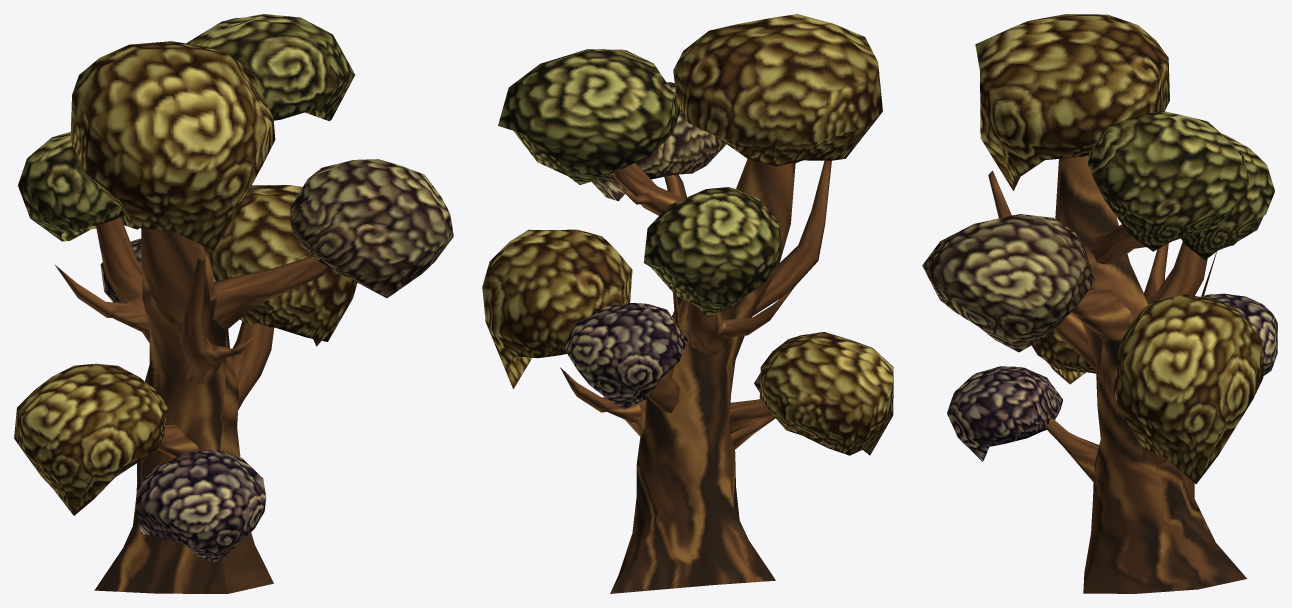
Rendered from Ntree_4_1.fbx.
3 renders of one model, left to right at view 1: azimuth 30°, elevation 25°; view 2: azimuth 150°, elevation 25°; view 3: azimuth 270°, elevation 25°, orthographic. The views are drawn at different scales.
Parts seen in each view (by area): view 1: Ntree_4_1; view 2: Ntree_4_1; view 3: Ntree_4_1.
Boxes of the visible parts, x1=… form: Ntree_4_1: x1=14, y1=14, x2=453, y2=593; Ntree_4_1: x1=482, y1=14, x2=893, y2=593; Ntree_4_1: x1=922, y1=14, x2=1277, y2=593.
Bounding box in the file's own units: 245 × 347 × 216.
